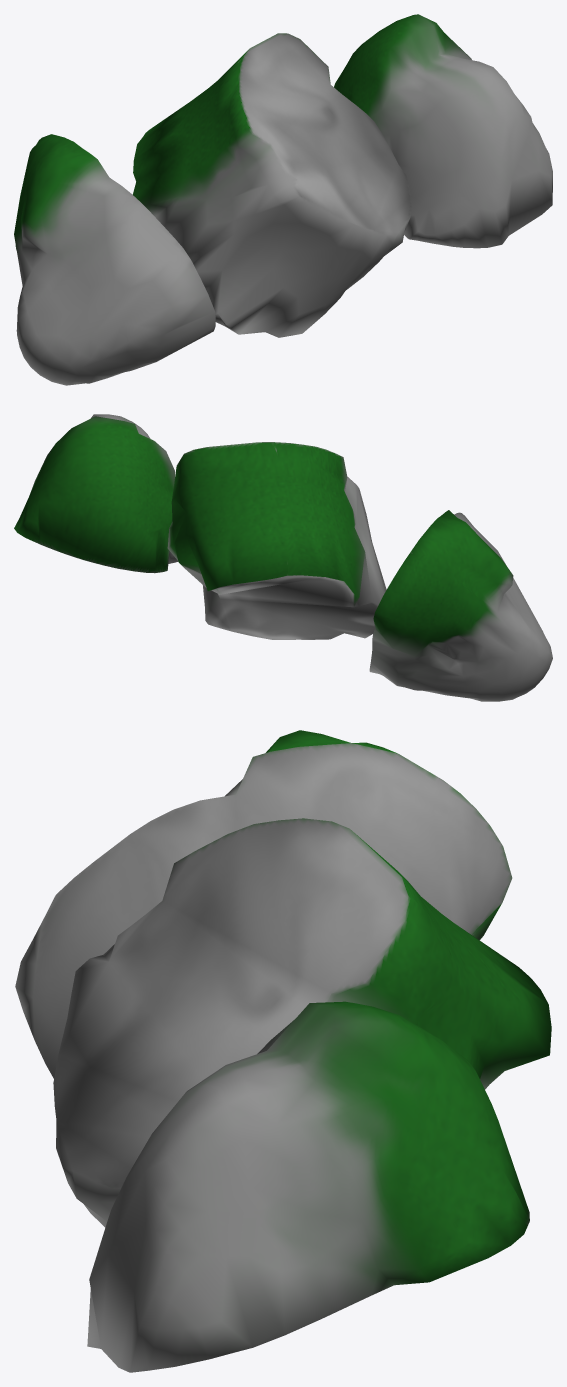
Rendered from Musgo_cortado.fbx.
3 views of the same model, one above another, from view 1: azimuth 30°, elevation 25°; view 2: azimuth 150°, elevation 25°; view 3: azimuth 270°, elevation 25° (orthographic). The views are drawn at different scales.
Visible parts, largest first — view 1: Musgo_cortado; view 2: Musgo_cortado; view 3: Musgo_cortado.
Boxes of the visible parts, x1,y1,x2,y2 form: Musgo_cortado: (14, 14, 552, 385); Musgo_cortado: (14, 414, 552, 701); Musgo_cortado: (15, 730, 551, 1372).
Bounding box in the file's own units: 282 × 127 × 133.
Materials: 1 (1 with a texture image).
